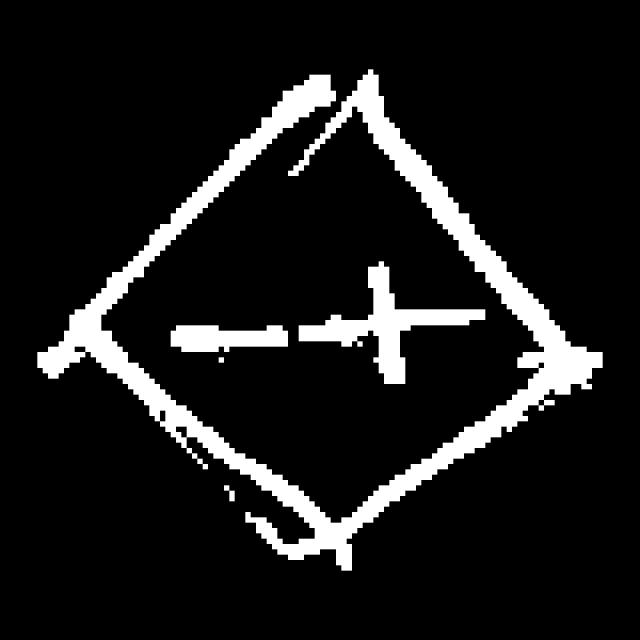dependant_voltage: (78, 67, 560, 529)
